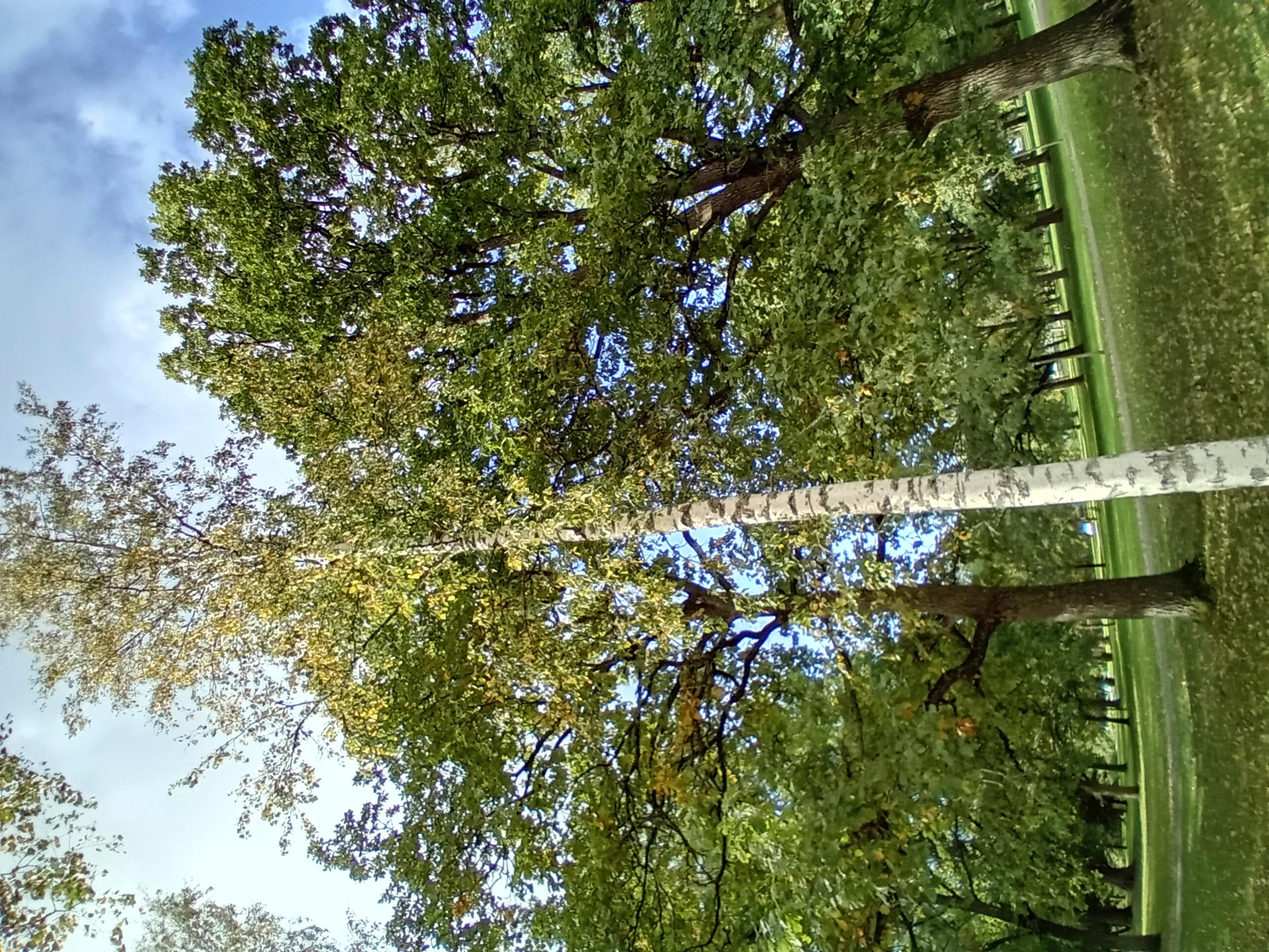Birch: (250, 0, 846, 948)
